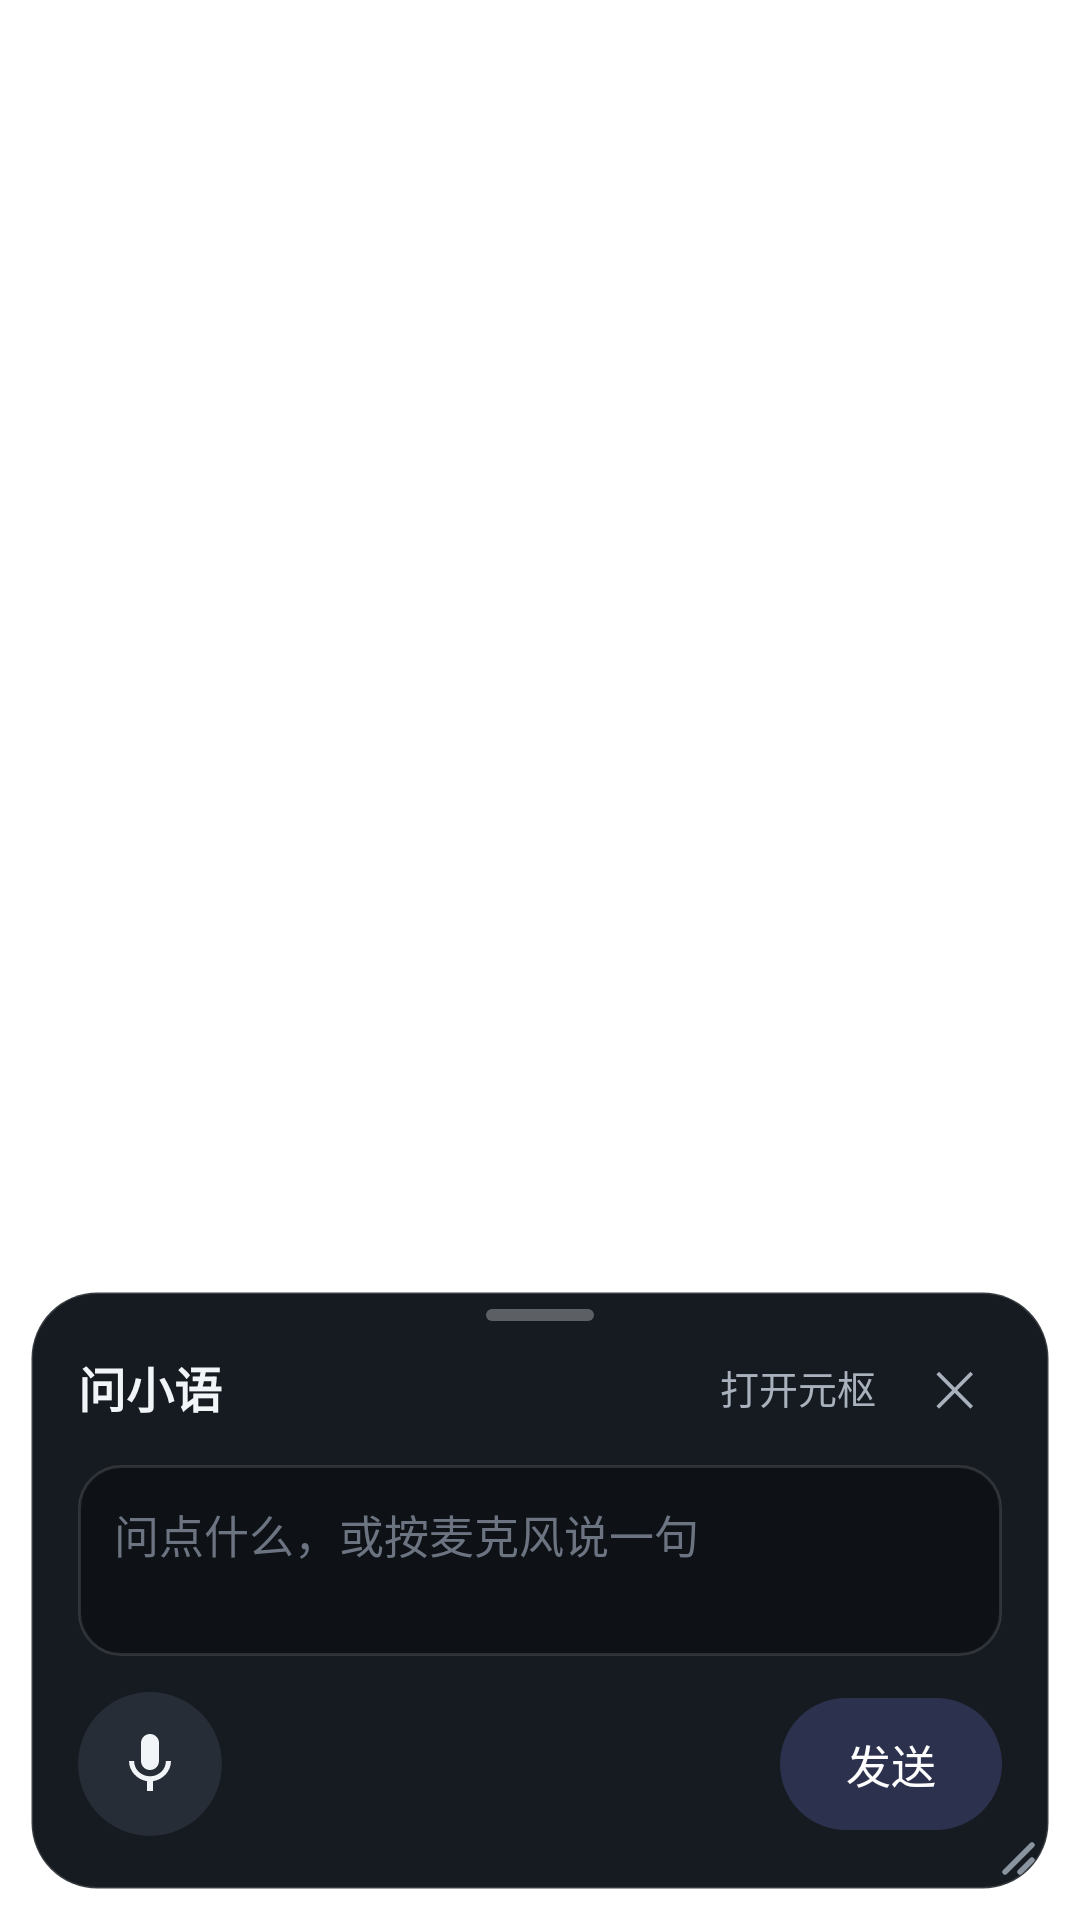

Screen size 1080px x 1920px. Icon name, then its center in pixels as point (x, y):
语音输入: point (150, 1764)
